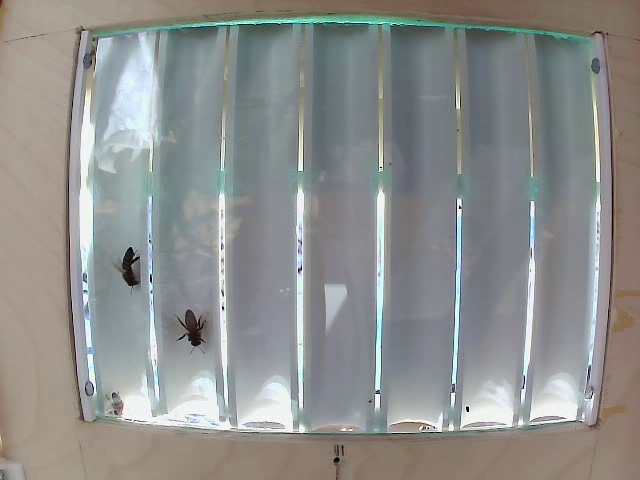bee: (160, 293, 221, 360), (113, 250, 153, 291)
